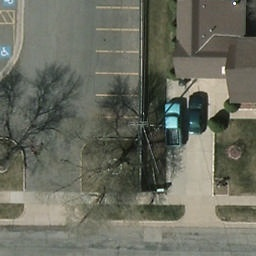car: (190, 97, 207, 132)
pickup: (166, 105, 185, 148)
